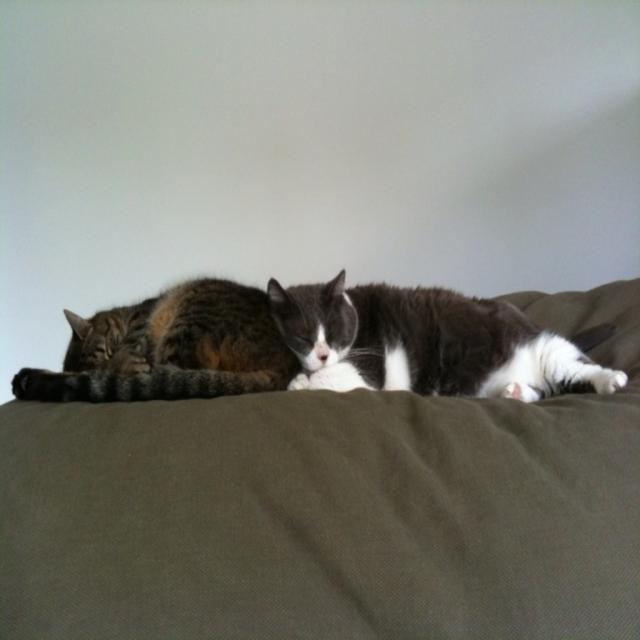Cat: (273, 270, 629, 403), (8, 270, 294, 395)
